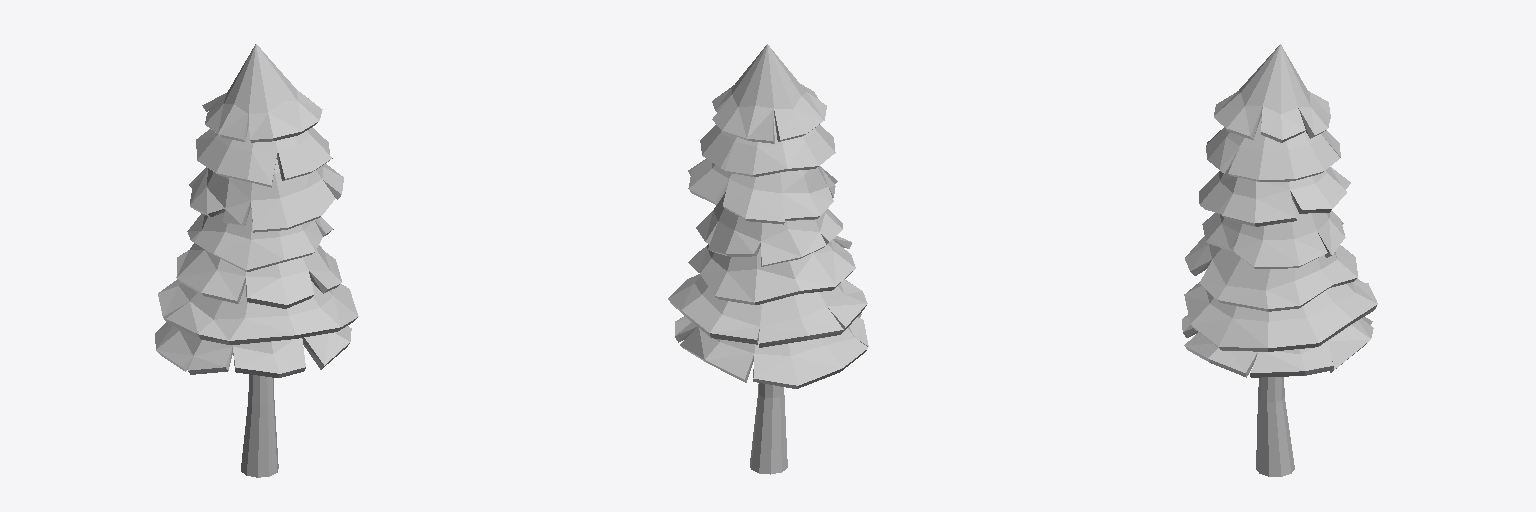
File: Tree_2.obj
The picture shows the model from 3 angles: view 1: azimuth 30°, elevation 25°; view 2: azimuth 150°, elevation 25°; view 3: azimuth 270°, elevation 25°; orthographic projection.
Parts seen in each view (by area): view 1: Tree_2; view 2: Tree_2; view 3: Tree_2.
Boxes of the visible parts, x1,y1,x2,y2 form: Tree_2: [155, 44, 358, 477]; Tree_2: [668, 44, 868, 474]; Tree_2: [1182, 44, 1377, 476].
Size of the model in its own units: 2.44 by 5.65 by 2.37.